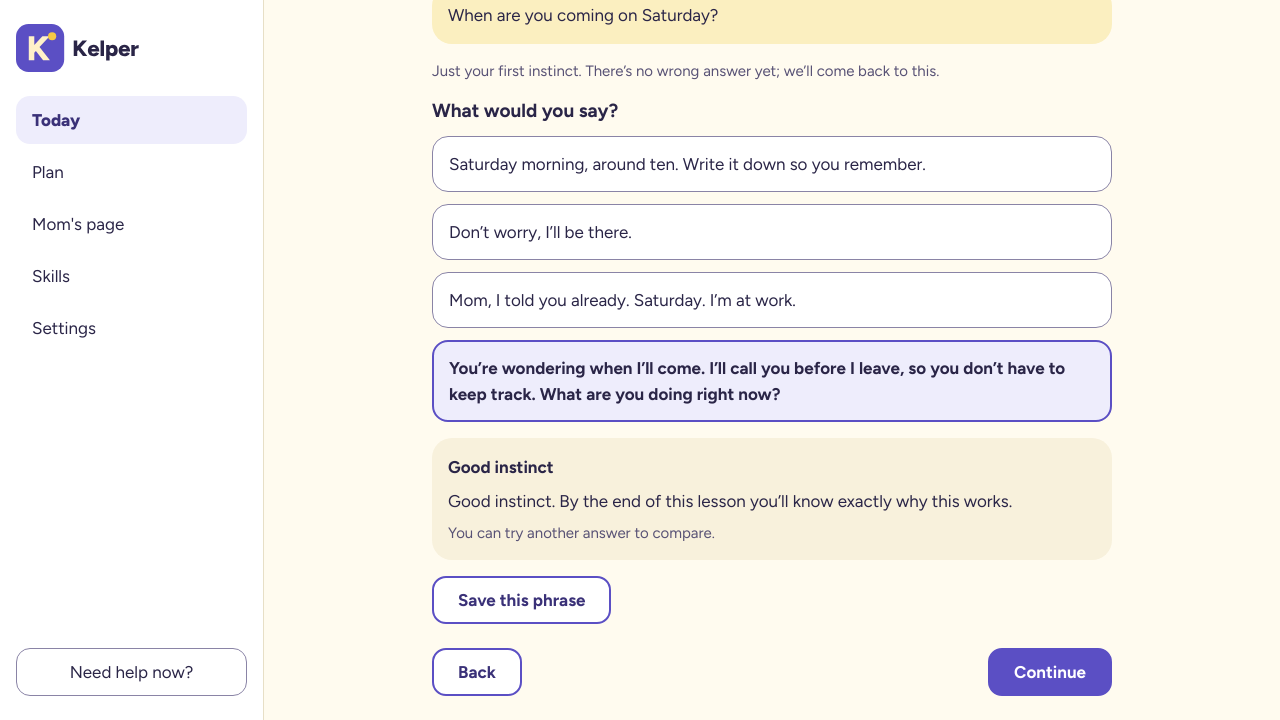
it: lesson 1, 24 screens, end to end with the fake API › plays every screen on the phone variant: quizzes right and wrong, builder, reset, role-play, plan, wrap
Earlier steps of the test are not shown.
Later steps or results of the test are not shown.
(page scrolled)
Click the button "Save this phrase" at (522, 600), box [432,576,612,624]
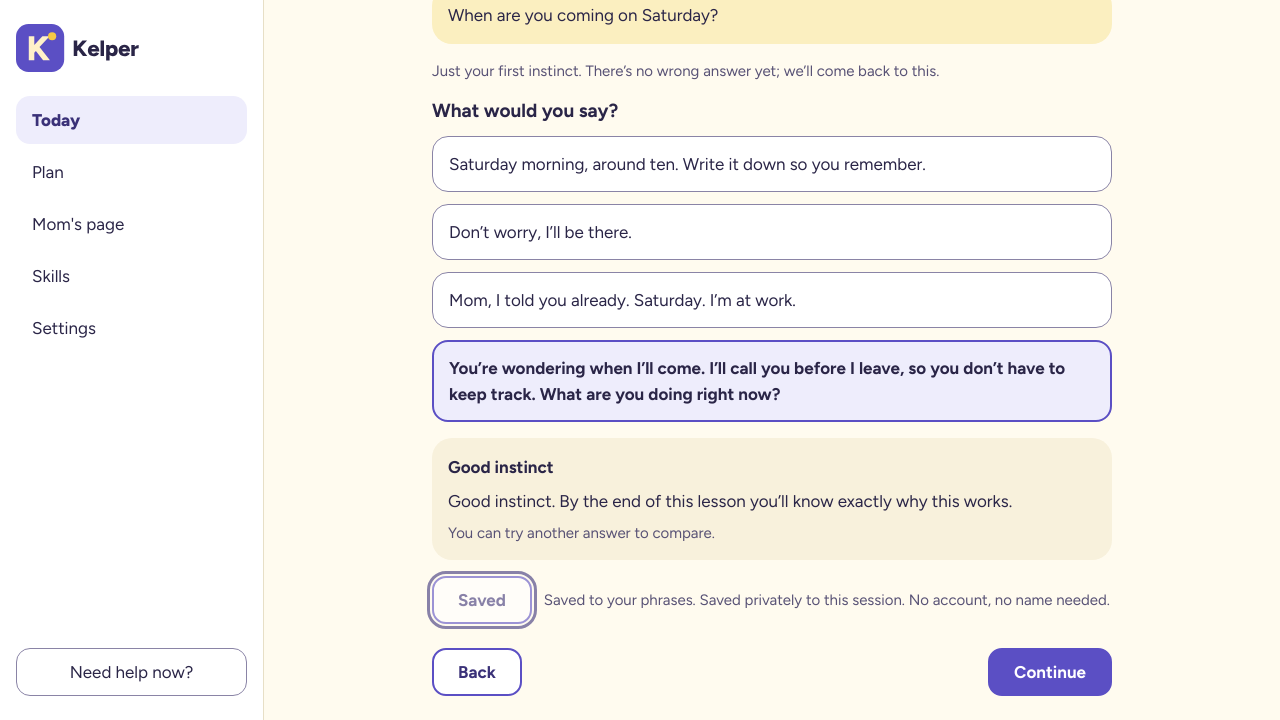
Result: the button "Saved" is shown at [432,576,532,624]
Click the button "Continue" at (1050, 672), box [988,648,1112,696]
(page scrolled)
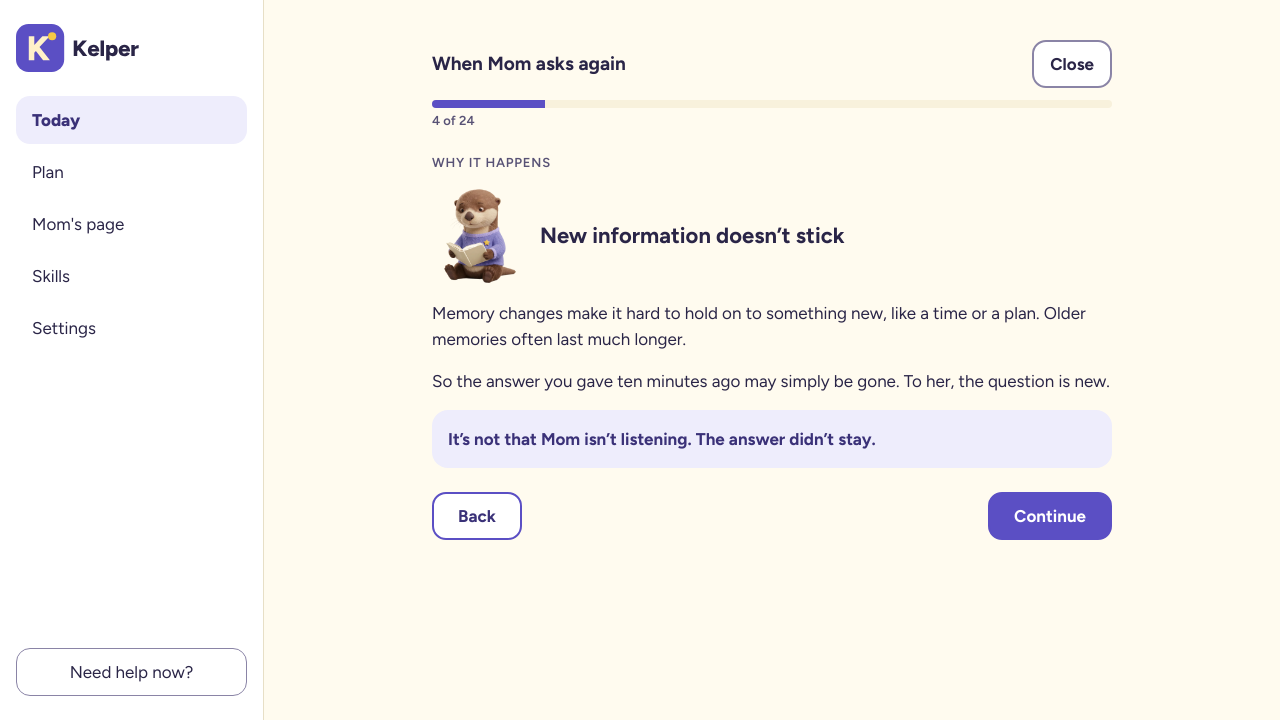
Result: the progress indicator named "Lesson progress" has attribute aria-valuenow="4" at [432,100,1112,108]
Result: the button "Continue" does not have attribute aria-disabled="true"
Click the button "Continue" at (1050, 516), box [988,492,1112,540]
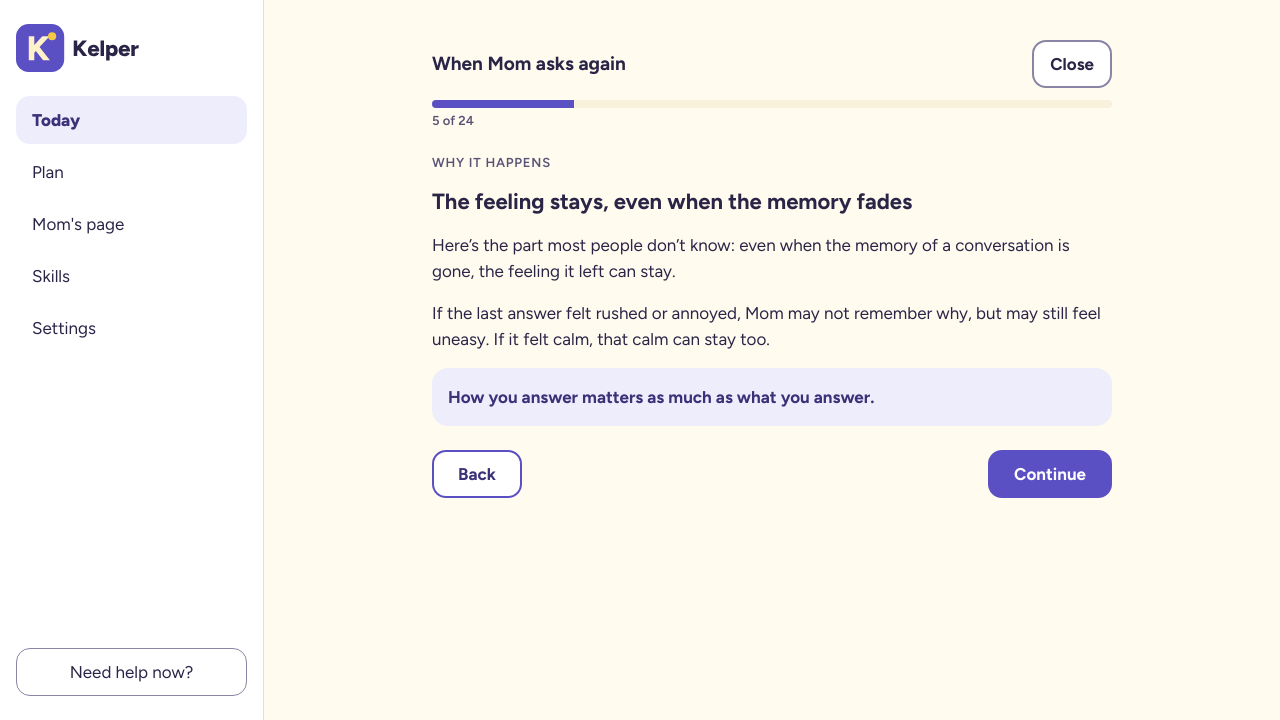
Result: the progress indicator named "Lesson progress" has attribute aria-valuenow="5" at [432,100,1112,108]
Result: the button "Continue" does not have attribute aria-disabled="true"
Click the button "Continue" at (1050, 474), box [988,450,1112,498]
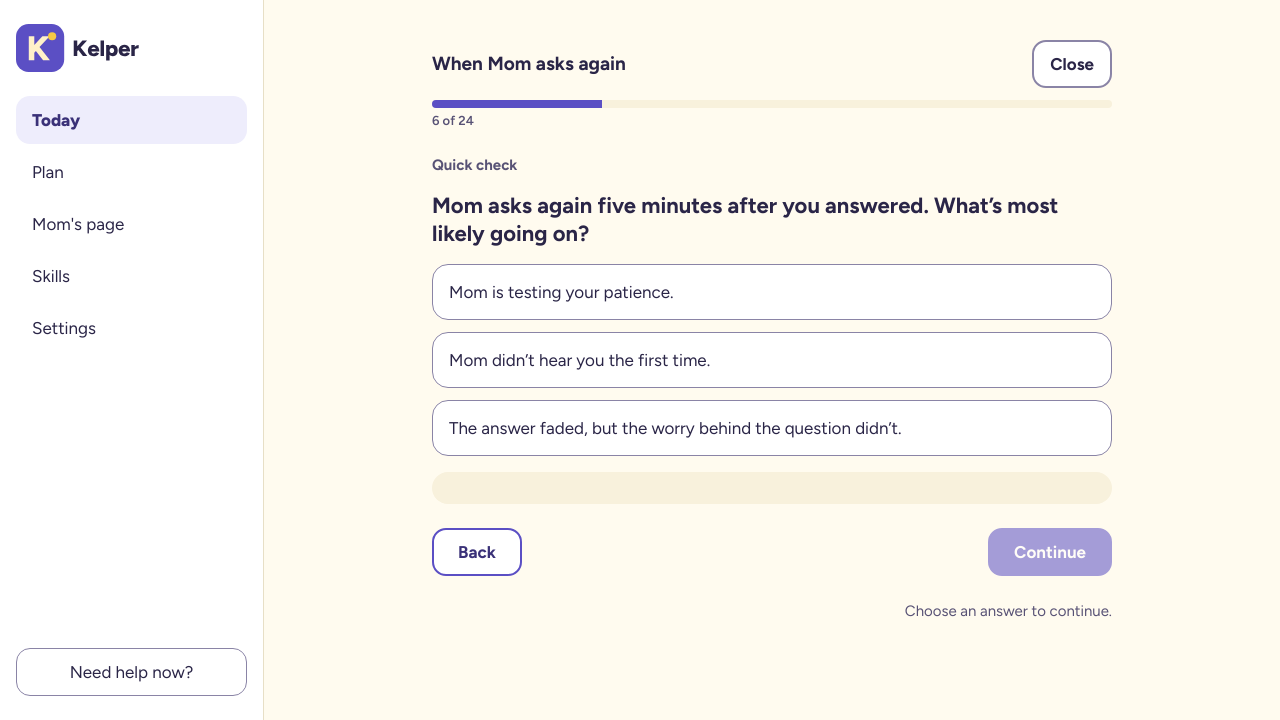
Result: the progress indicator named "Lesson progress" has attribute aria-valuenow="6" at [432,100,1112,108]
Click the radio button labelled "Mom is testing your patience." at (561, 292), box [432,264,1112,320]
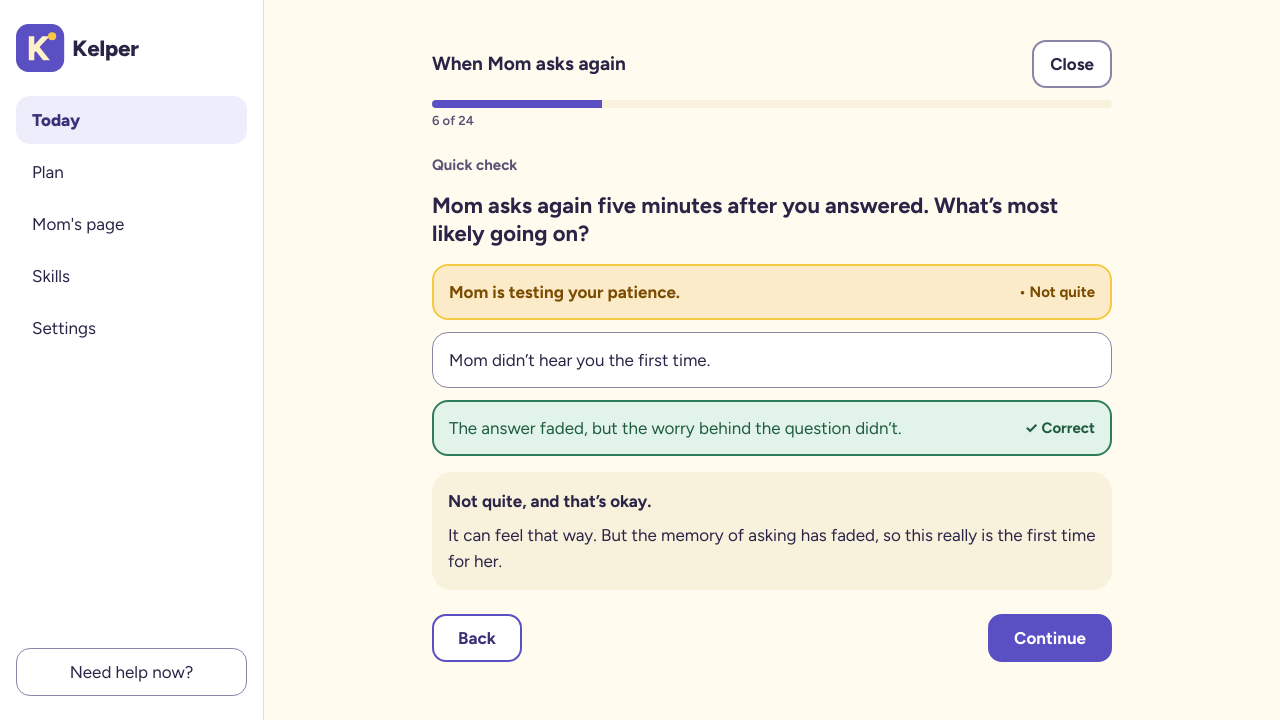
Click the 3rd radio button at (772, 428), box [432,400,1112,456]
Result: the button "Continue" does not have attribute aria-disabled="true"
Click the button "Continue" at (1050, 638), box [988,614,1112,662]
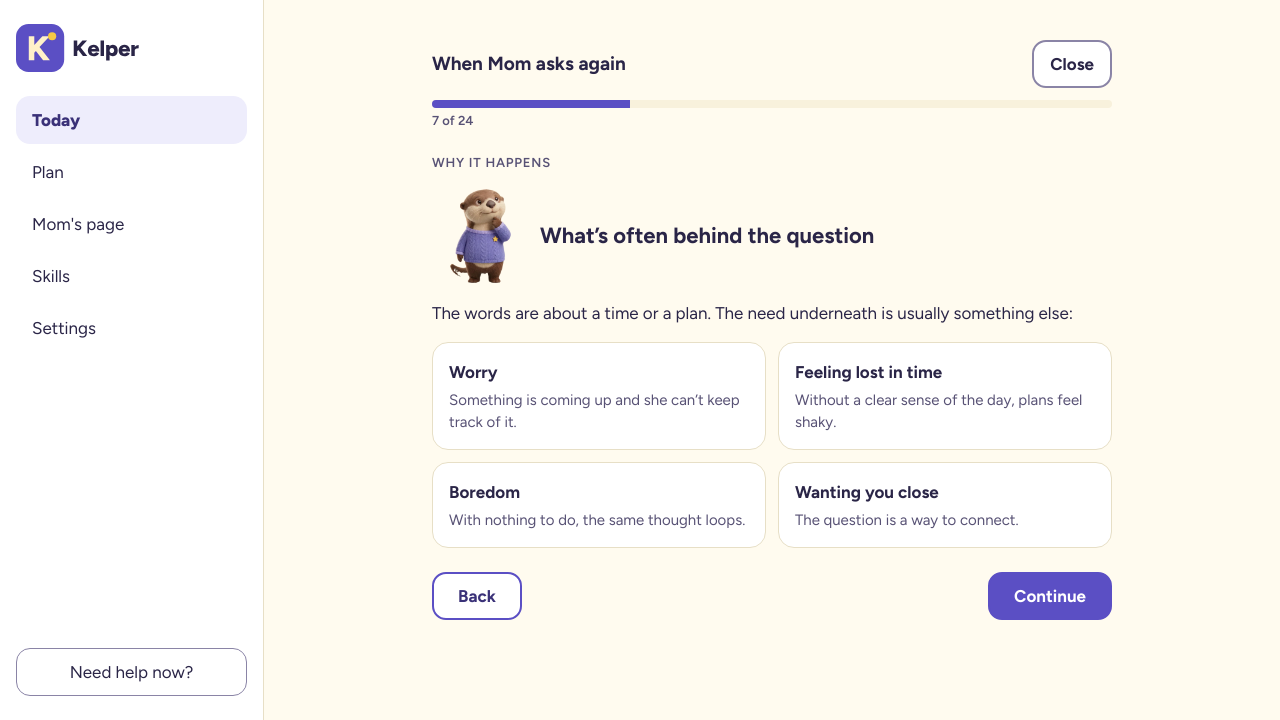
Result: the button "Continue" does not have attribute aria-disabled="true" at [988,572,1112,620]
